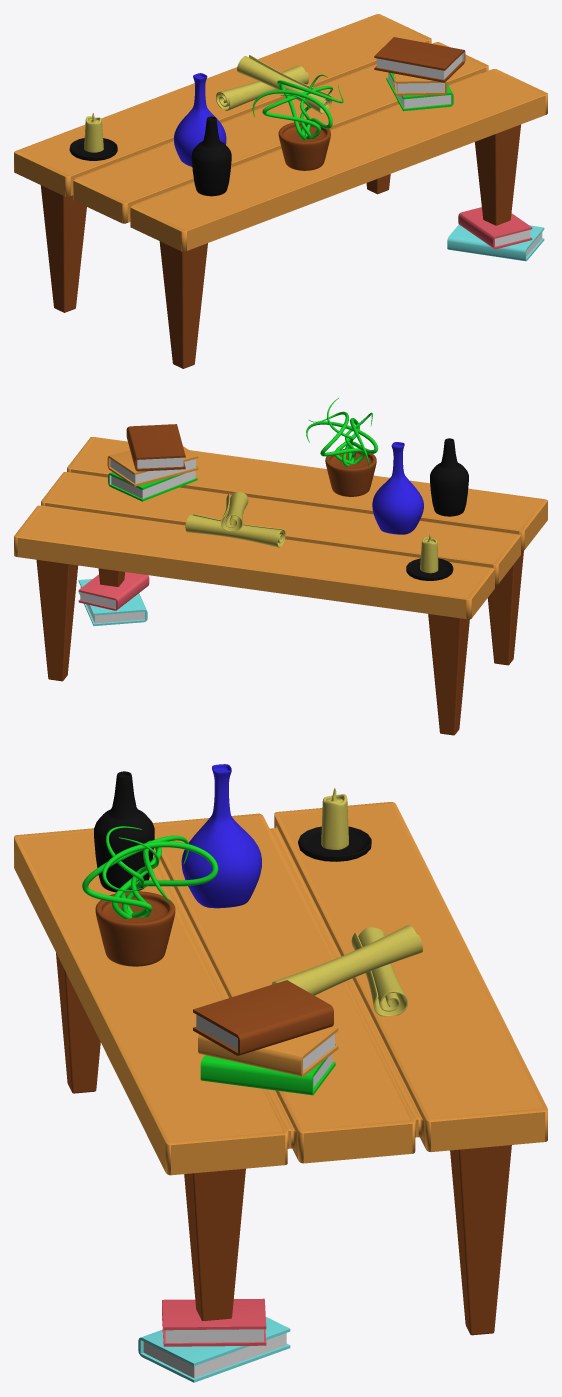
File: tavolo.fbx
3 views of the same model, one above another, from view 1: azimuth 30°, elevation 25°; view 2: azimuth 150°, elevation 25°; view 3: azimuth 270°, elevation 25° (orthographic). The views are drawn at different scales.
Visible parts, largest first — view 1: tavolo, pianta, libro marrone, pozione nera, pozione blu, libro rosa, libro celeste, pergamena.002, candela, pergamena.001, libro verde, libro giallo; view 2: tavolo, pianta, pozione blu, libro marrone, pozione nera, libro rosa, pergamena.001, libro giallo, libro celeste, libro verde, candela, pergamena.002; view 3: tavolo, pianta, libro marrone, pozione blu, libro rosa, libro celeste, pozione nera, pergamena.002, libro giallo, candela, libro verde, pergamena.001.
Boxes of the visible parts, x1,y1,x2,y2 form: tavolo: (14, 14, 547, 368); pianta: (252, 74, 343, 170); libro marrone: (374, 37, 465, 82); pozione nera: (191, 116, 231, 196); pozione blu: (174, 73, 226, 166); libro rosa: (458, 207, 532, 249); libro celeste: (447, 224, 544, 261); pergamena.002: (237, 55, 332, 113); candela: (69, 113, 117, 160); pergamena.001: (216, 65, 309, 110); libro verde: (386, 72, 453, 111); libro giallo: (393, 73, 447, 95); tavolo: (14, 437, 547, 735); pianta: (306, 398, 378, 496); pozione blu: (372, 442, 423, 534); libro marrone: (126, 424, 185, 471); pozione nera: (430, 438, 468, 516); libro rosa: (78, 572, 149, 610); pergamena.001: (185, 514, 285, 547); libro giallo: (107, 446, 198, 486); libro celeste: (78, 579, 147, 625); libro verde: (108, 466, 197, 501); candela: (406, 534, 453, 580); pergamena.002: (221, 491, 248, 531); tavolo: (14, 802, 547, 1335); pianta: (82, 826, 218, 966); libro marrone: (193, 980, 333, 1055); pozione blu: (181, 764, 261, 908); libro rosa: (162, 1298, 266, 1346); libro celeste: (138, 1317, 290, 1382); pozione nera: (94, 771, 154, 892); pergamena.002: (271, 925, 422, 995); libro giallo: (198, 1026, 338, 1076); candela: (298, 788, 371, 861); libro verde: (200, 1044, 335, 1095); pergamena.001: (351, 927, 407, 1016).
Bounding box in the file's own units: 349 × 172 × 227.
